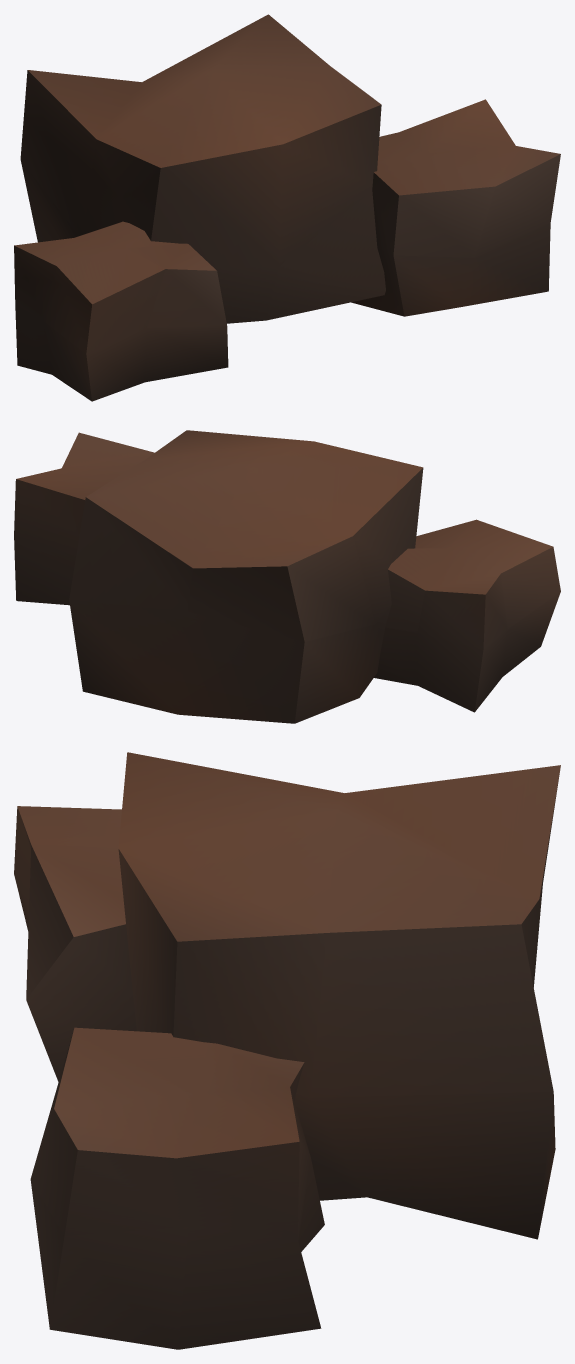
File: ph_item_iron_ore.glb
3 views of the same model, one above another, from view 1: azimuth 30°, elevation 25°; view 2: azimuth 150°, elevation 25°; view 3: azimuth 270°, elevation 25° (orthographic). The views are drawn at different scales.
Parts seen in each view (by area): view 1: ph_item_iron_ore; view 2: ph_item_iron_ore; view 3: ph_item_iron_ore.
Part boxes in pixels (<box>): ph_item_iron_ore: <box>14,14,560,401</box>; ph_item_iron_ore: <box>14,430,560,723</box>; ph_item_iron_ore: <box>14,752,560,1349</box>.
Bounding box in the file's own units: 0.2846 × 0.1242 × 0.1749.
